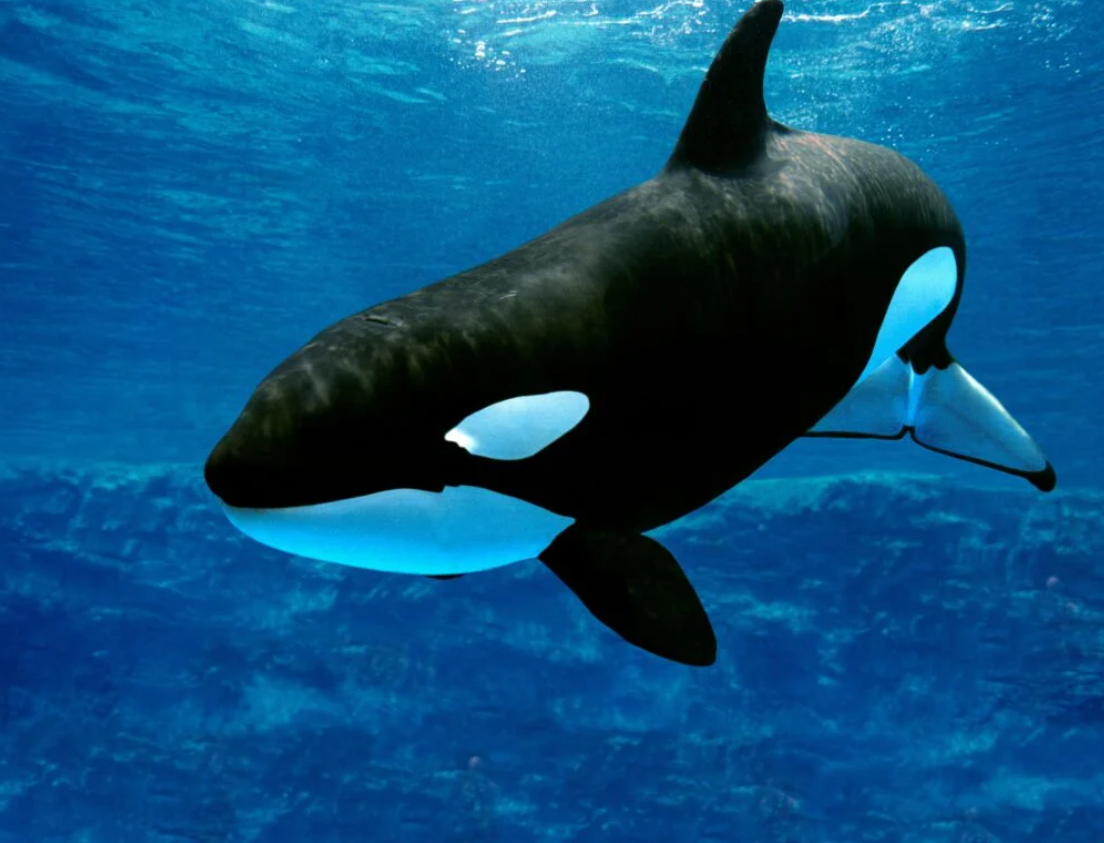Orca whale: (202, 3, 1063, 671)
